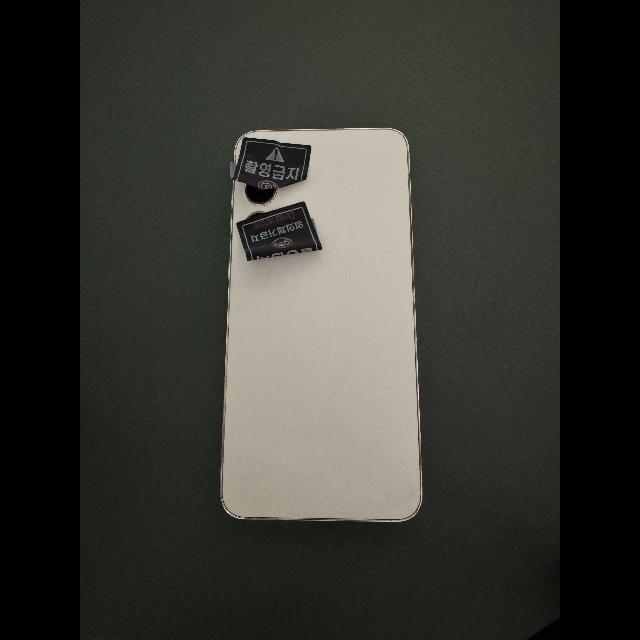lens: (245, 184, 277, 206)
phone: (218, 128, 424, 523)
sticker: (235, 201, 322, 261), (229, 137, 312, 191)
